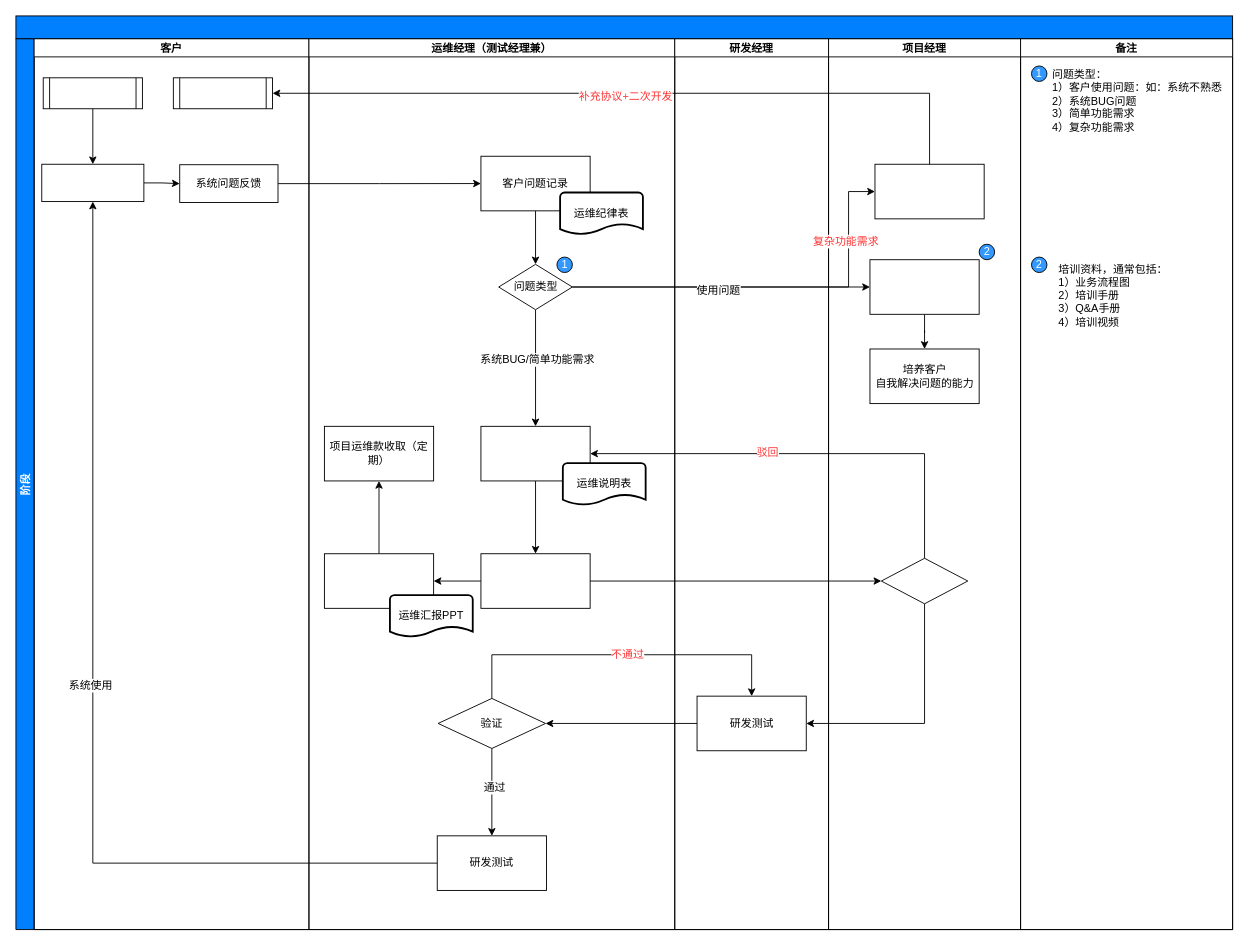
Image size: 1249x945. Some labels were removed from this diagram. Here are the shapes that lost their labels. From the top down, the centre of each, then its label:
At pixel 624 27: "PMO-MM-100 项目运维支持".
At pixel 92 93: "HC-PMO-ID-100项目实施交付".
At pixel 222 93: "HC-PMO-PM-100项目立项流程".
At pixel 92 182: "系统日常使用".
At pixel 929 191: "输出解决方案".
At pixel 924 286: "输出培训资料".
At pixel 535 453: "输出运维补充说明文档".
At pixel 379 580: "项目运维客户汇报（定期）".
At pixel 535 580: "运维周期会议".
At pixel 924 580: "问题评估".
